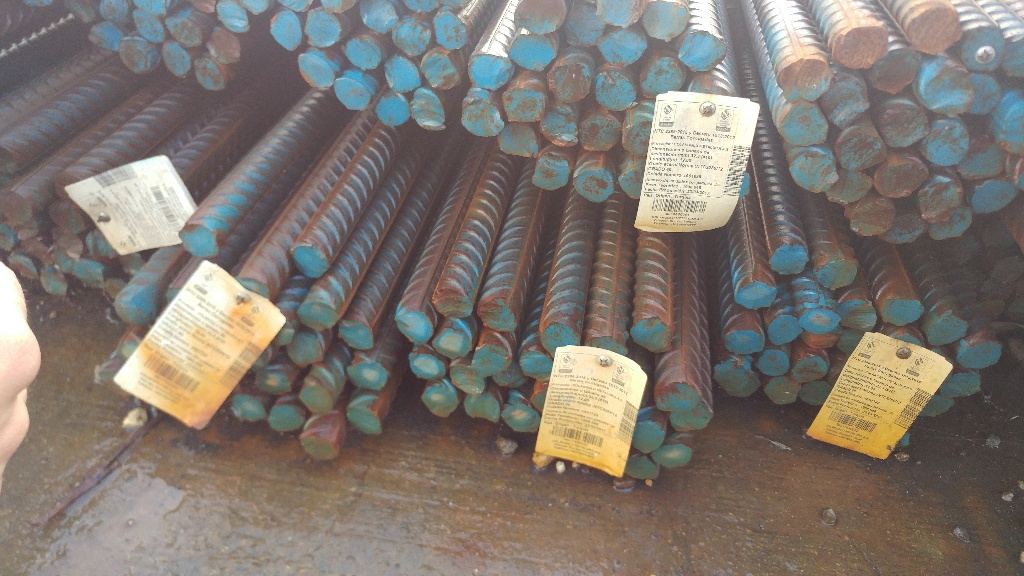dipstick: (909, 7, 962, 54), (825, 75, 869, 127), (837, 25, 888, 69), (777, 59, 828, 101), (926, 70, 973, 115), (781, 105, 828, 145), (882, 107, 929, 147), (680, 32, 726, 72), (872, 54, 918, 94), (513, 1, 566, 35), (788, 154, 834, 192), (461, 96, 504, 136), (640, 58, 683, 98), (962, 30, 1002, 73), (713, 362, 760, 398), (919, 180, 961, 220), (836, 136, 885, 170), (643, 2, 688, 39), (875, 165, 927, 197), (925, 127, 968, 165), (511, 35, 555, 72), (600, 32, 646, 66), (566, 5, 604, 46), (541, 106, 579, 147), (548, 64, 590, 101), (827, 171, 874, 204), (468, 53, 510, 89), (580, 115, 622, 151), (972, 180, 1016, 214), (595, 73, 634, 111), (421, 55, 462, 91), (114, 288, 155, 323), (851, 203, 895, 235), (633, 317, 672, 353), (503, 89, 545, 122), (958, 149, 1002, 180), (412, 89, 446, 129), (930, 209, 973, 240), (434, 11, 468, 50), (297, 53, 334, 88), (392, 22, 431, 55), (359, 1, 398, 34), (499, 124, 538, 157), (573, 169, 613, 201), (926, 314, 968, 344), (541, 322, 579, 355), (270, 12, 302, 51), (385, 57, 420, 92), (346, 361, 387, 390), (533, 157, 569, 190), (479, 300, 516, 332), (769, 244, 807, 275), (395, 312, 433, 343), (886, 215, 928, 243), (656, 382, 698, 410), (817, 259, 857, 288), (306, 13, 340, 47), (334, 78, 369, 111), (181, 226, 217, 258), (669, 406, 713, 432), (215, 1, 249, 34), (207, 31, 241, 64), (881, 299, 924, 325), (959, 342, 1002, 368), (375, 94, 411, 125), (292, 246, 328, 277), (288, 335, 324, 366), (839, 301, 876, 331), (433, 328, 470, 358), (973, 74, 1000, 115), (298, 302, 336, 331), (599, 1, 643, 26), (422, 386, 458, 416), (338, 320, 374, 350), (165, 18, 202, 47), (119, 39, 150, 73), (347, 39, 381, 70), (735, 283, 777, 308), (502, 405, 540, 432), (161, 43, 191, 77), (348, 405, 382, 435), (623, 121, 652, 156), (47, 206, 86, 232), (799, 308, 839, 333), (767, 315, 801, 344), (940, 373, 981, 397), (764, 376, 799, 404), (133, 11, 164, 42), (632, 422, 664, 452), (434, 296, 474, 320), (196, 58, 225, 91), (450, 365, 484, 393), (409, 352, 445, 378), (620, 164, 645, 201), (301, 385, 334, 413), (520, 352, 554, 379), (269, 405, 303, 432), (232, 393, 266, 420), (726, 330, 764, 354), (464, 394, 499, 420), (652, 445, 693, 467), (52, 230, 83, 259), (1, 191, 30, 222), (88, 22, 121, 49), (755, 350, 789, 376), (300, 434, 338, 457), (41, 265, 69, 296), (256, 370, 292, 394), (794, 357, 827, 383), (625, 457, 658, 482), (72, 259, 105, 284), (475, 347, 505, 373), (7, 254, 38, 279), (799, 382, 832, 404), (88, 232, 117, 257), (64, 1, 96, 23), (919, 397, 955, 416), (99, 1, 128, 23), (55, 174, 80, 199), (497, 364, 523, 385), (803, 334, 837, 348), (839, 334, 862, 354)
